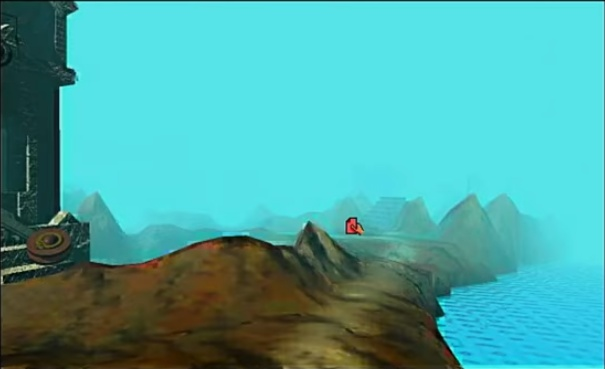Keep: (343, 213, 367, 239)
